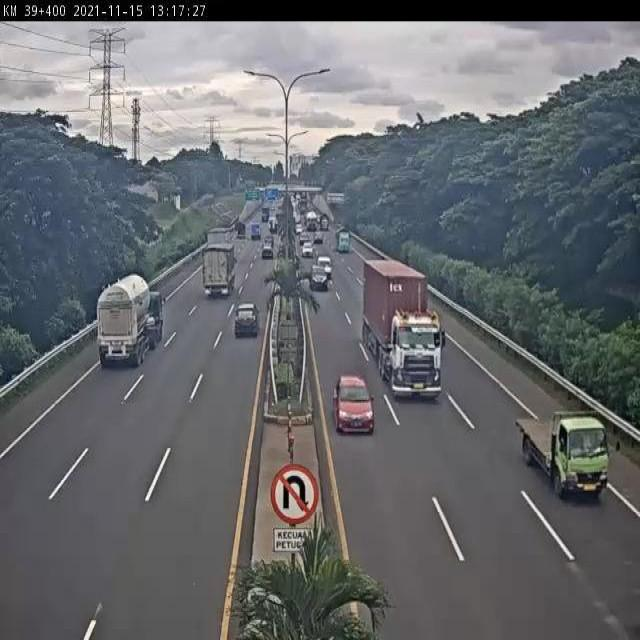bus-s-: (308, 264, 331, 293)
car: (332, 369, 375, 439), (234, 300, 262, 341), (314, 253, 335, 280)
truck-l-: (89, 275, 167, 369)
truck-m-: (201, 240, 238, 300)
truck-s-: (516, 407, 613, 501)
truck-xl-: (361, 258, 445, 398)
